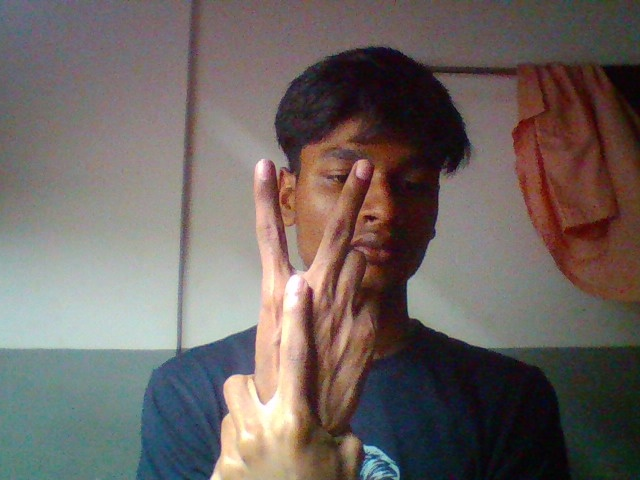Y: (192, 157, 399, 480)
